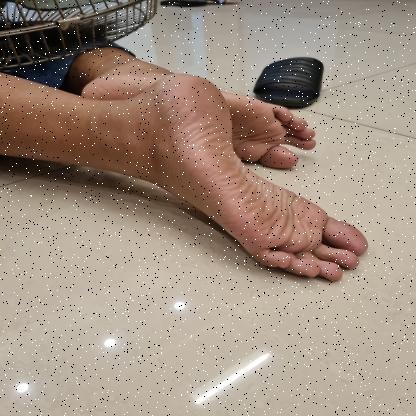leg: (0, 69, 377, 288), (75, 38, 326, 178)
